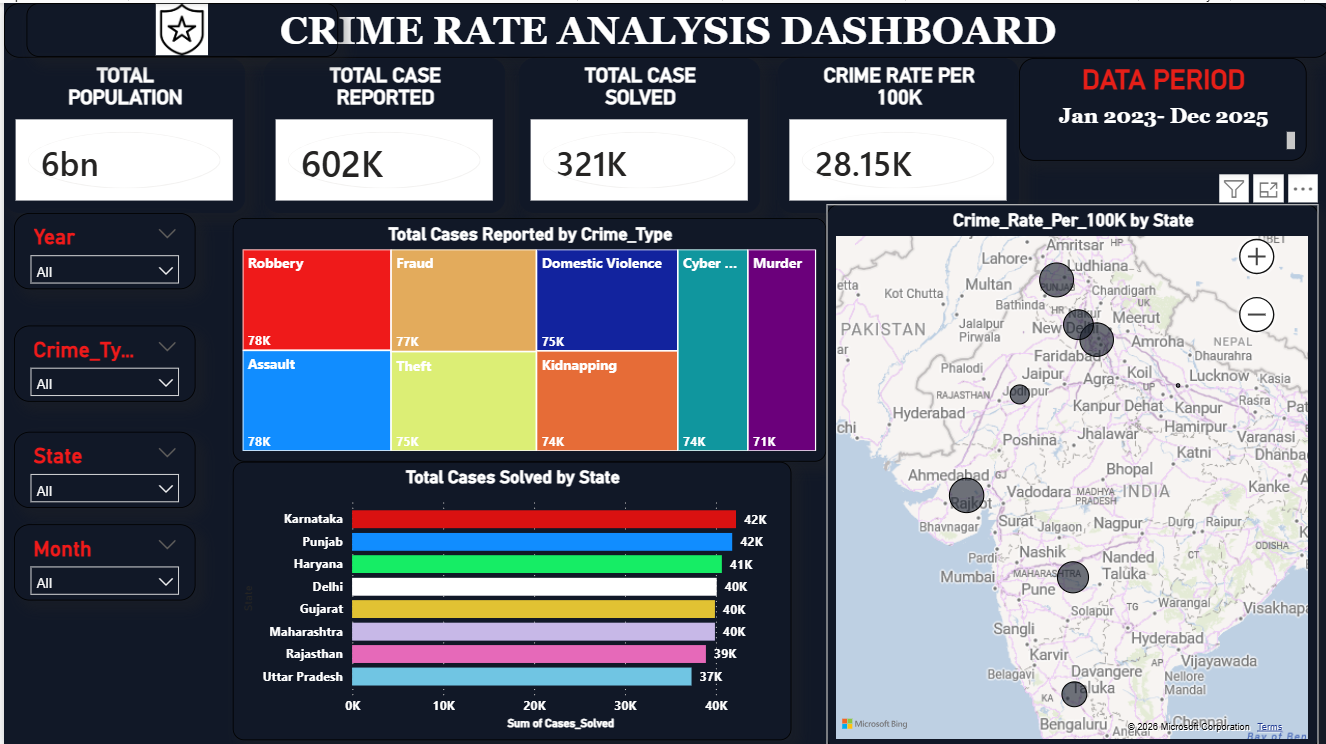

The page's visual inventory and layout, read from the dashboard file:
{"tool":"powerbi","page":{"name":"Page 1","canvas":[1280,720],"ordinal":0},"visuals":[{"type":"textbox","title":"CRIME RATE ANALYSIS DASHBOARD","box":[0,0,1280,53.1],"z":0},{"type":"cardVisual","title":"TOTAL CASE REPORTED","fields":{"Data":["Sum(Crime_Data.Cases_Reported)"]},"box":[250.9,53.1,232.8,149.6],"z":1000},{"type":"cardVisual","title":"CRIME RATE PER 100K","fields":{"Data":["Sum(Crime_Data.Crime_Rate_Per_100K)","Sum(Crime_Data.Crime_Rate_Per_100K)"]},"box":[746.8,53.1,232.8,149.6],"z":2000},{"type":"cardVisual","title":"TOTAL POPULATION","fields":{"Data":["Sum(Crime_Data.Population)"]},"box":[0,53.1,232.8,149.6],"z":3000},{"type":"cardVisual","title":"TOTAL CASE SOLVED","fields":{"Data":["Sum(Crime_Data.Cases_Solved)"]},"box":[497.1,53.1,232.8,149.6],"z":4000},{"type":"slicer","fields":{"Values":["Crime_Data.Year"]},"box":[9.7,202.7,174.9,73.6],"z":5000},{"type":"slicer","fields":{"Values":["Crime_Data.Crime_Type"]},"box":[9.7,311.3,174.9,73.6],"z":6000},{"type":"slicer","fields":{"Values":["Crime_Data.State"]},"box":[9.7,413.8,174.9,73.6],"z":7000},{"type":"slicer","fields":{"Values":["Crime_Data.Month"]},"box":[9.7,503.1,174.9,73.6],"z":8000},{"type":"treemap","title":"Total Cases Reported by Crime_Type","fields":{"Group":["Crime_Data.Crime_Type"],"Values":["Sum(Crime_Data.Cases_Reported)"]},"box":[220.8,207.5,573.1,235.3],"z":9000},{"type":"clusteredBarChart","title":"Total Cases Solved by State","fields":{"Category":["Crime_Data.State"],"Y":["Sum(Crime_Data.Cases_Solved)"]},"box":[220.8,442.8,539.3,269],"z":10000},{"type":"map","title":"Crime_Rate_Per_100K by State","fields":{"Size":["Sum(Crime_Data.Crime_Rate_Per_100K)"],"Category":["Crime_Data.State"]},"box":[793.8,194.2,475.3,526],"z":11000},{"type":"textbox","title":"DATA PERIOD","box":[979.6,53.1,277.5,98.9],"z":12000},{"type":"image","box":[21.7,0,300.4,51.9],"z":13000}]}

Visuals, with their boxes in screenshot pixels (x1, y1, x2, y2), scaled from the page's 1280x720 canvas onto the 1326x744 screenshot:
"CRIME RATE ANALYSIS DASHBOARD" textbox: {"x1": 0, "y1": 0, "x2": 1325, "y2": 55}
"TOTAL CASE REPORTED" cardVisual: {"x1": 260, "y1": 55, "x2": 501, "y2": 209}
"CRIME RATE PER 100K" cardVisual: {"x1": 774, "y1": 55, "x2": 1015, "y2": 209}
"TOTAL POPULATION" cardVisual: {"x1": 0, "y1": 55, "x2": 241, "y2": 209}
"TOTAL CASE SOLVED" cardVisual: {"x1": 515, "y1": 55, "x2": 756, "y2": 209}
slicer - Crime_Data.Year: {"x1": 10, "y1": 209, "x2": 191, "y2": 286}
slicer - Crime_Data.Crime_Type: {"x1": 10, "y1": 322, "x2": 191, "y2": 398}
slicer - Crime_Data.State: {"x1": 10, "y1": 428, "x2": 191, "y2": 504}
slicer - Crime_Data.Month: {"x1": 10, "y1": 520, "x2": 191, "y2": 596}
"Total Cases Reported by Crime_Type" treemap: {"x1": 229, "y1": 214, "x2": 822, "y2": 458}
"Total Cases Solved by State" clusteredBarChart: {"x1": 229, "y1": 458, "x2": 787, "y2": 736}
"Crime_Rate_Per_100K by State" map: {"x1": 822, "y1": 201, "x2": 1315, "y2": 743}
"DATA PERIOD" textbox: {"x1": 1015, "y1": 55, "x2": 1302, "y2": 157}
image: {"x1": 22, "y1": 0, "x2": 334, "y2": 54}
